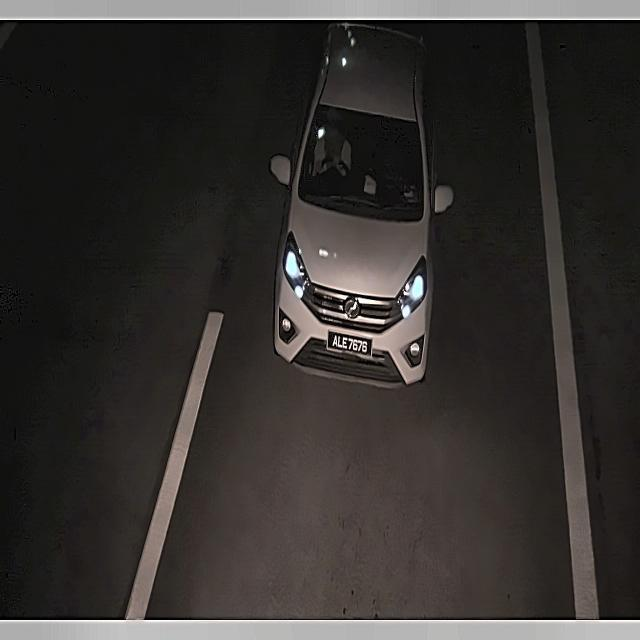car: (322, 321, 377, 367)
